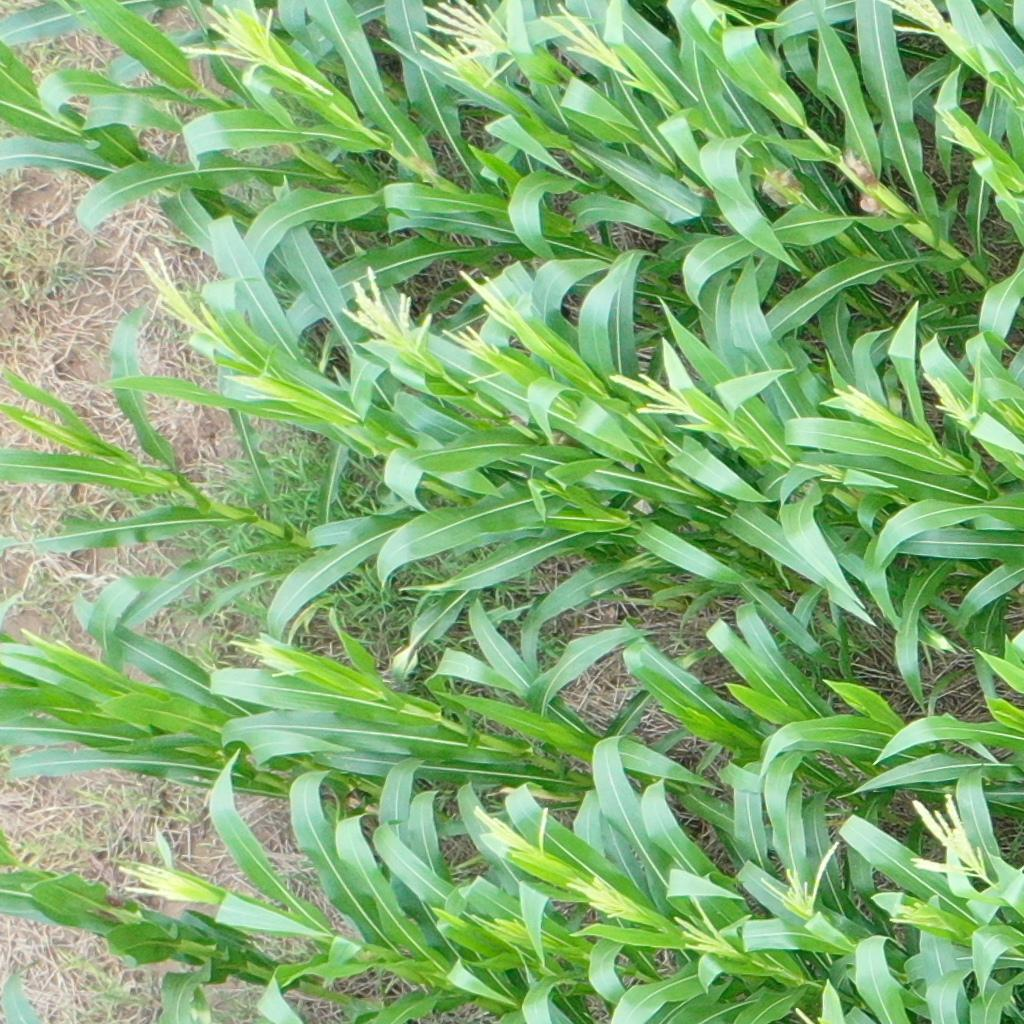Tassel: (179, 1, 332, 96), (133, 246, 228, 347), (342, 267, 434, 363), (426, 1, 521, 85), (460, 266, 551, 352), (907, 790, 987, 883), (540, 1, 632, 78), (759, 839, 839, 920), (470, 798, 551, 863), (606, 365, 697, 420), (117, 861, 215, 912), (672, 895, 742, 961), (413, 31, 491, 85), (923, 369, 985, 436), (565, 872, 639, 923), (213, 361, 297, 404), (228, 636, 305, 682), (441, 326, 505, 381), (881, 1, 959, 39), (935, 101, 987, 156), (467, 906, 536, 945), (832, 383, 887, 423), (886, 895, 934, 935), (793, 459, 846, 486)
